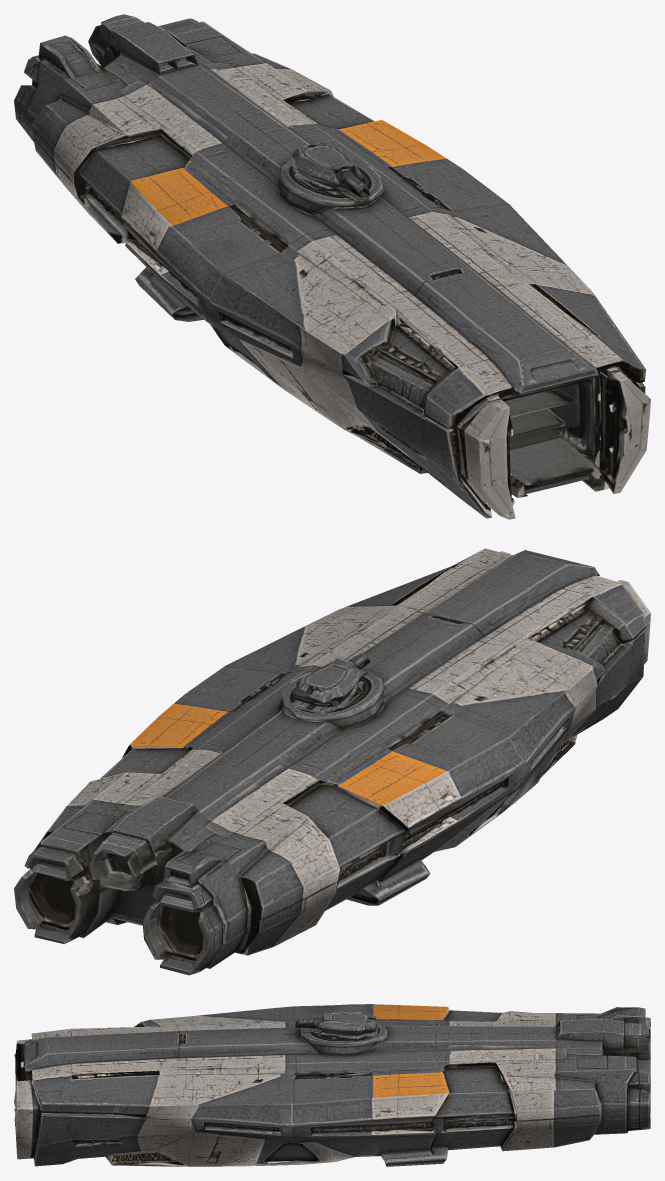
The model's file is colossus-high.glb.
3 renders of one model, top to bottom at view 1: azimuth 30°, elevation 25°; view 2: azimuth 150°, elevation 25°; view 3: azimuth 270°, elevation 25°, orthographic. The views are drawn at different scales.
Visible parts, largest first — view 1: Low; view 2: Low; view 3: Low.
Part boxes in pixels (box(x1,y1,x2,y2)): Low: box(14, 14, 650, 519); Low: box(14, 548, 650, 975); Low: box(14, 1004, 650, 1166).
Size of the model in its own units: 0.7831 by 0.4473 by 1.95.
1 material, 1 textured.
